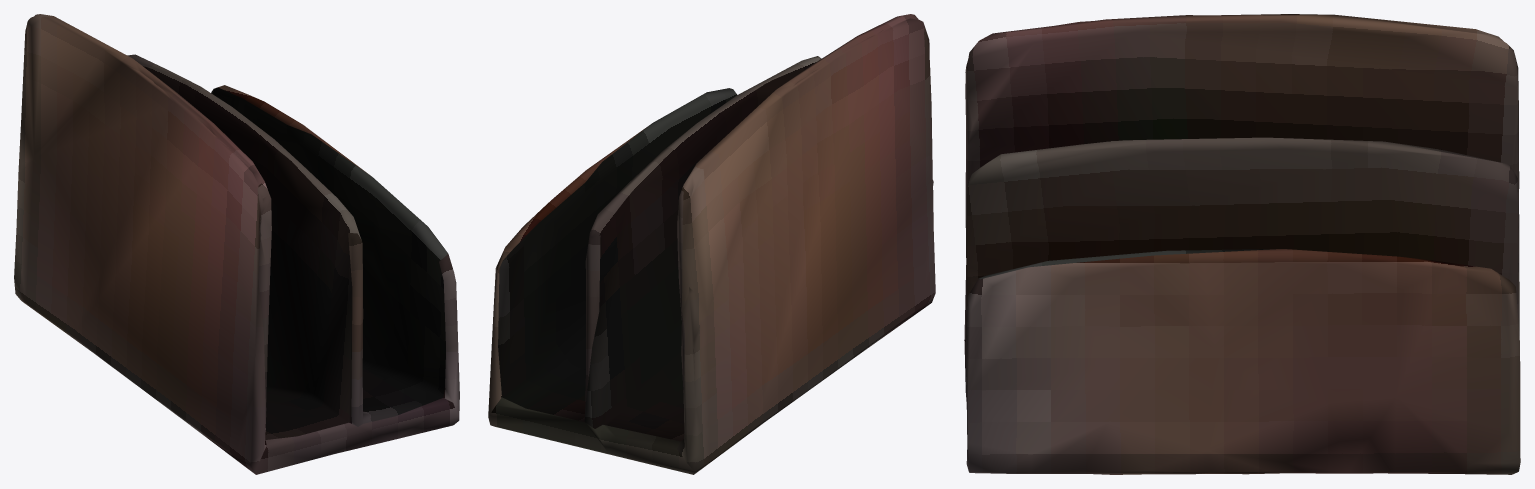
File: Markings_Letter_Holder-low.glb
The picture shows the model from 3 angles, left to right: view 1: azimuth 30°, elevation 25°; view 2: azimuth 150°, elevation 25°; view 3: azimuth 270°, elevation 25°; orthographic projection. The views are drawn at different scales.
Visible parts, largest first — view 1: Markings_Letter_Holder; view 2: Markings_Letter_Holder; view 3: Markings_Letter_Holder.
Boxes of the visible parts, x1=… form: Markings_Letter_Holder: x1=14, y1=14, x2=459, y2=474; Markings_Letter_Holder: x1=488, y1=14, x2=935, y2=474; Markings_Letter_Holder: x1=964, y1=14, x2=1520, y2=474.
Bounding box in the file's own units: 0.0993 × 0.1405 × 0.1979.
1 material, 1 textured.
